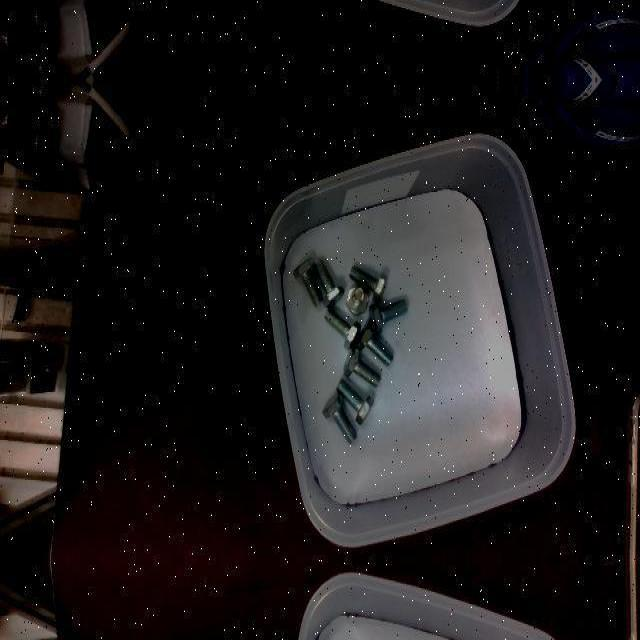screw: (322, 392, 357, 444), (355, 320, 393, 366), (335, 379, 373, 425), (343, 346, 381, 388), (324, 307, 361, 349), (292, 257, 322, 307), (314, 259, 345, 307), (349, 265, 387, 303), (369, 298, 408, 334), (346, 285, 369, 315)
